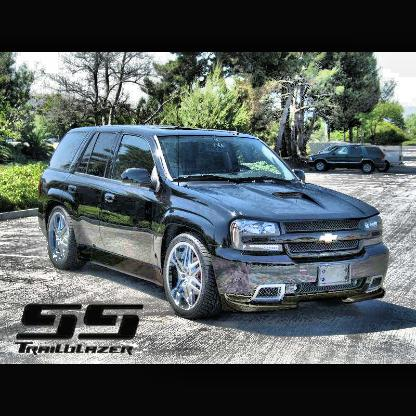Chevrolet TrailBlazer SS 2009: (35, 125, 391, 322)
